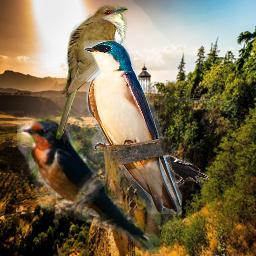Crow: (162, 155, 209, 188)
Cuckoo: (55, 4, 128, 140)
Swallow: (17, 115, 160, 254), (84, 40, 182, 214)
